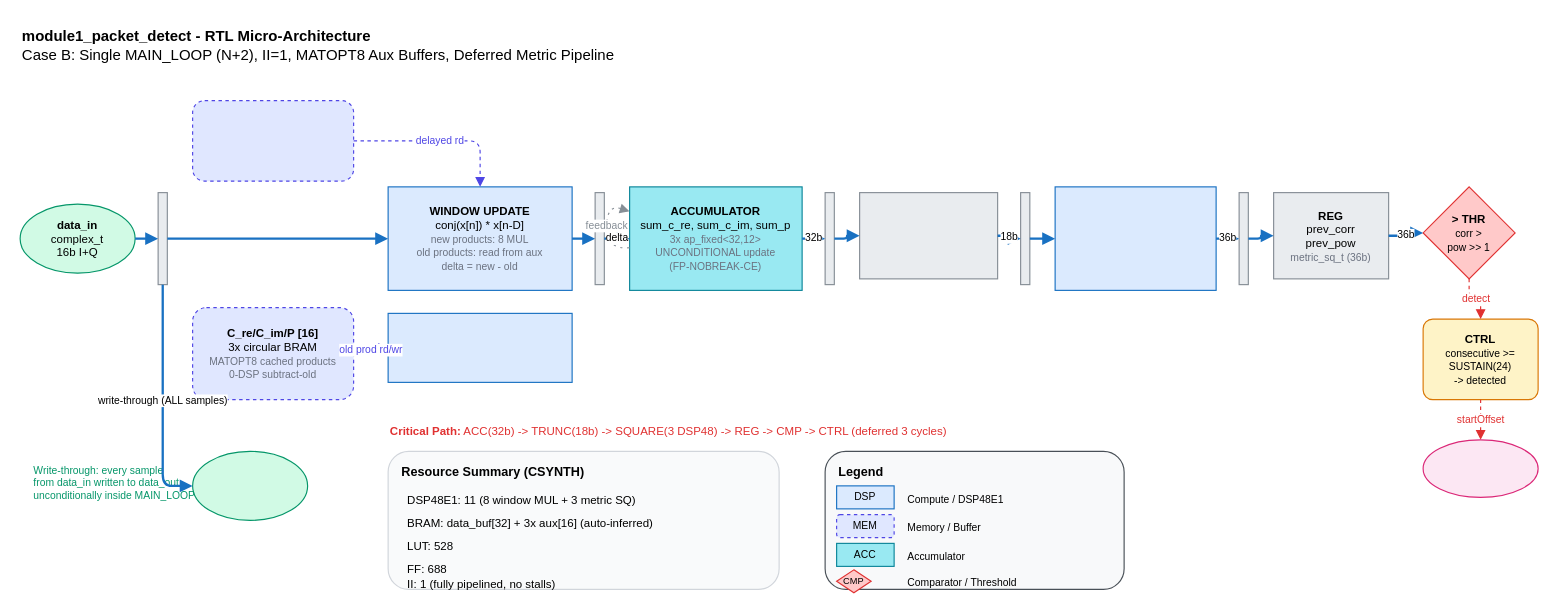
The diagram is 1558 pixels wide and 613 high, and some of its shapes have lost their labels. Here are the shapes that lost their labels. From the top down, the centre of each, then its label:
At point (272, 140): "data_buf[32] circular BRAM D-sample delay ram_s2p, no PARTITION".
At point (928, 235): "TRUNC 32b -> 18b accum_t -> trunc_accum_t ap_fixed<18,10>".
At point (1135, 238): "DSP: SQUARE 3 DSP48E1 tc_re^2 + tc_im^2 -> corr tp^2 -> pow metric_sq_t (36b)".
At point (479, 347): "DSP: 8 MUL complex conj*delayed + power product".
At point (249, 485): "data_out complex_t ALL 26105".
At point (1480, 468): "startOffset_out index_t".
